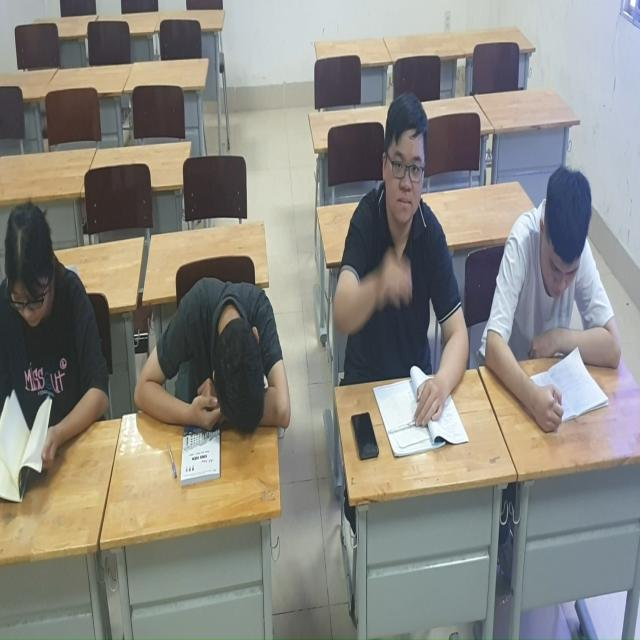read: (486, 156, 635, 438), (1, 204, 115, 522)
sleep: (133, 270, 297, 474)
